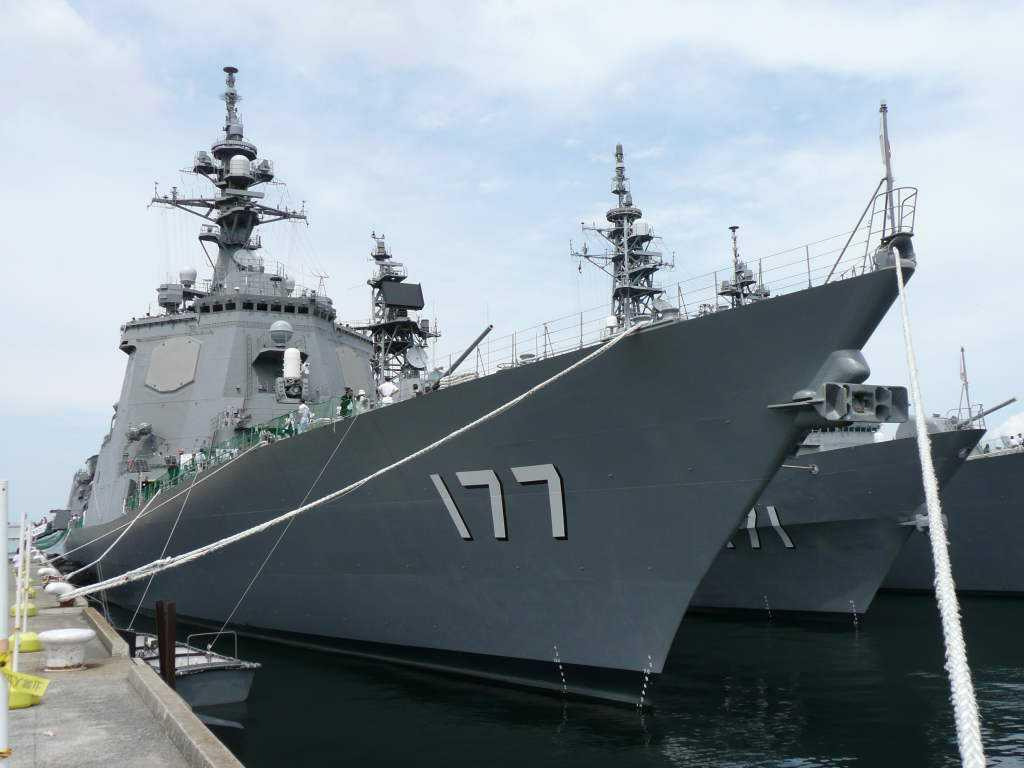Warship: (26, 54, 926, 740)
